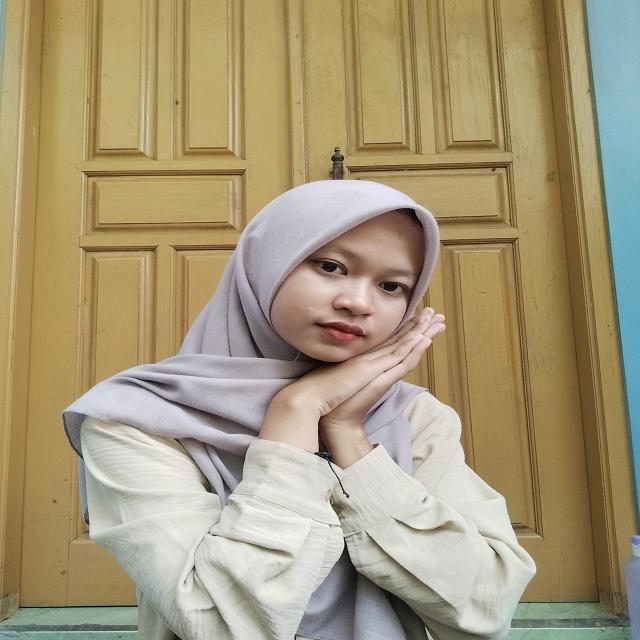tidur: (245, 309, 443, 491)
